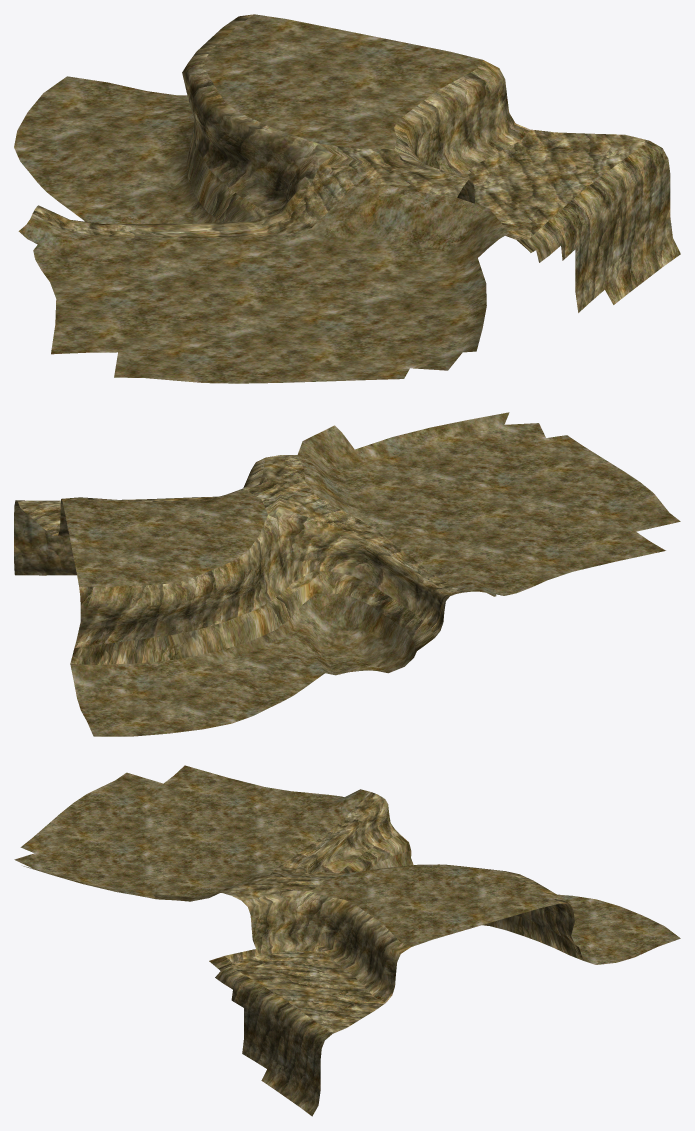
File: RM_PLAYSURFACE_FINAL_OBJECT11.fbx
The picture shows the model from 3 angles, top to bottom: view 1: azimuth 30°, elevation 25°; view 2: azimuth 150°, elevation 25°; view 3: azimuth 270°, elevation 25°; orthographic projection. The views are drawn at different scales.
Parts seen in each view (by area): view 1: RM_PLAYSURFACE_FINAL_OBJECT11; view 2: RM_PLAYSURFACE_FINAL_OBJECT11; view 3: RM_PLAYSURFACE_FINAL_OBJECT11.
Part boxes in pixels (<box>): RM_PLAYSURFACE_FINAL_OBJECT11: <box>14,14,680,383</box>; RM_PLAYSURFACE_FINAL_OBJECT11: <box>14,412,680,736</box>; RM_PLAYSURFACE_FINAL_OBJECT11: <box>14,765,680,1116</box>.
Size of the model in its own units: 370350 by 86806 by 416370.
4 materials, 4 textured.
